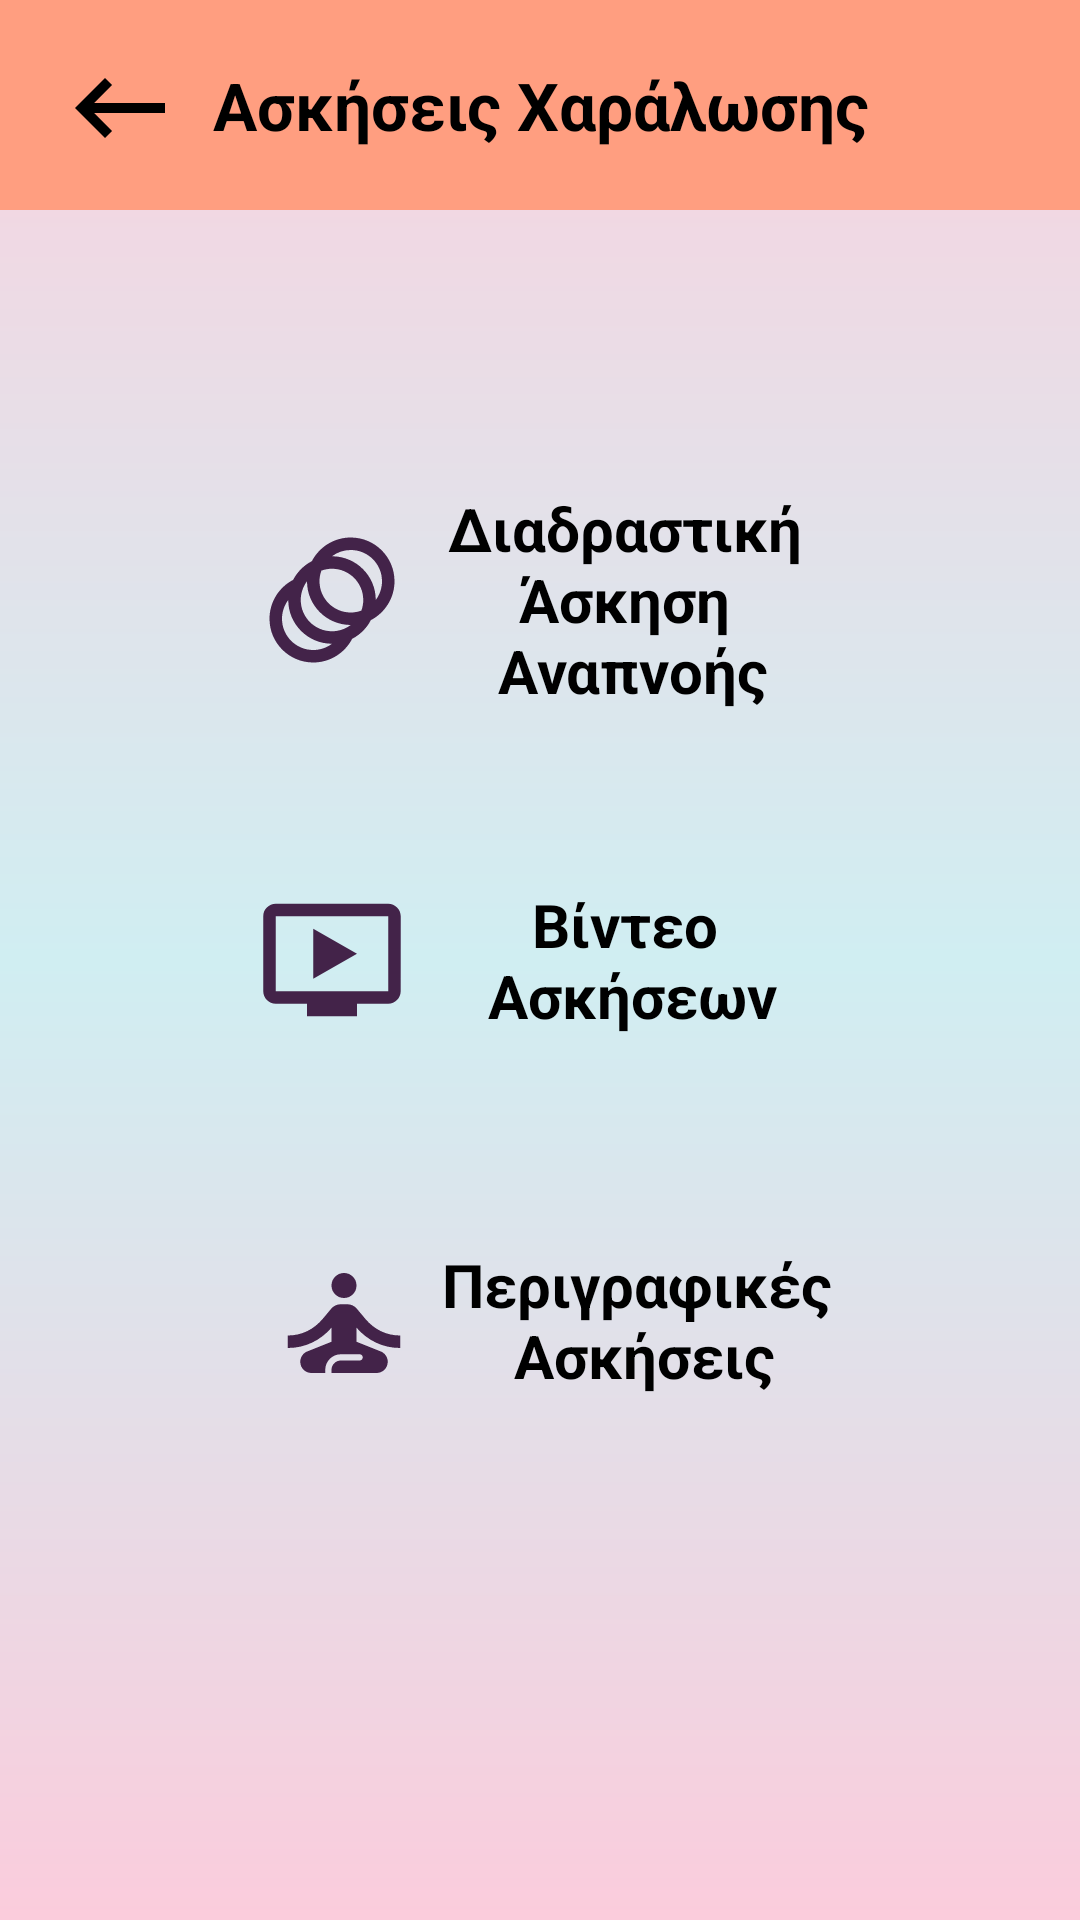

Where to tap for icons on this 1080×1920 app screen, as (x,y):
animation: (332,600)
go back: (120,108)
self improvement: (344,1323)
video: (332,960)
